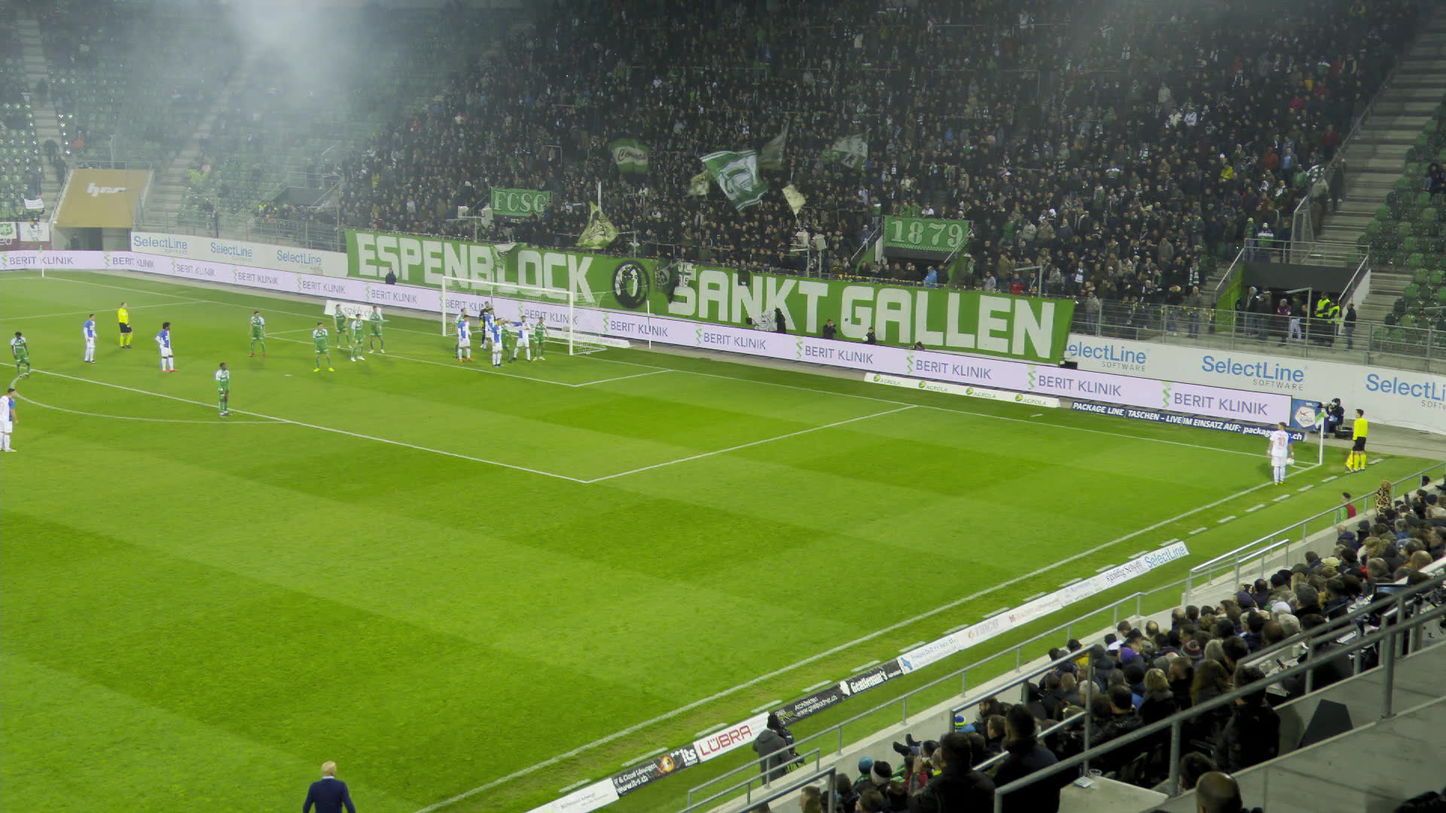ball: (1286, 457, 1294, 466)
player: (1265, 420, 1294, 485), (0, 388, 19, 452), (154, 321, 177, 372), (508, 315, 530, 362), (215, 362, 233, 419), (312, 322, 332, 373), (11, 330, 31, 379), (366, 305, 385, 354), (247, 310, 266, 358), (81, 313, 98, 364), (349, 312, 366, 361), (477, 300, 494, 347), (333, 303, 350, 349), (458, 313, 474, 361), (495, 317, 511, 364), (490, 318, 505, 367), (531, 317, 547, 361), (453, 307, 466, 358), (482, 308, 497, 351)
referee: (1350, 407, 1368, 471), (117, 301, 135, 349)
